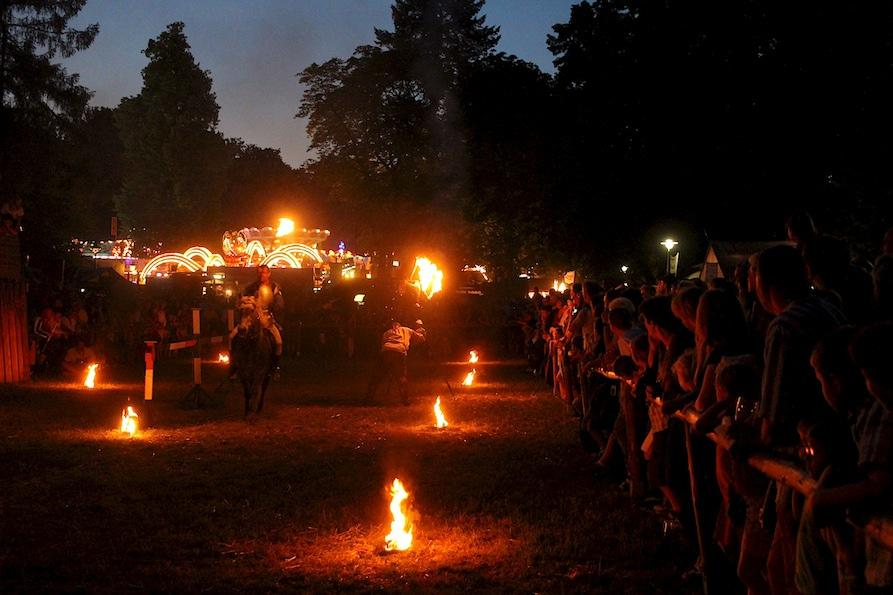fire: (389, 474, 417, 547), (411, 257, 447, 291), (276, 217, 300, 251), (434, 396, 454, 434), (120, 400, 140, 433), (86, 359, 101, 387)
